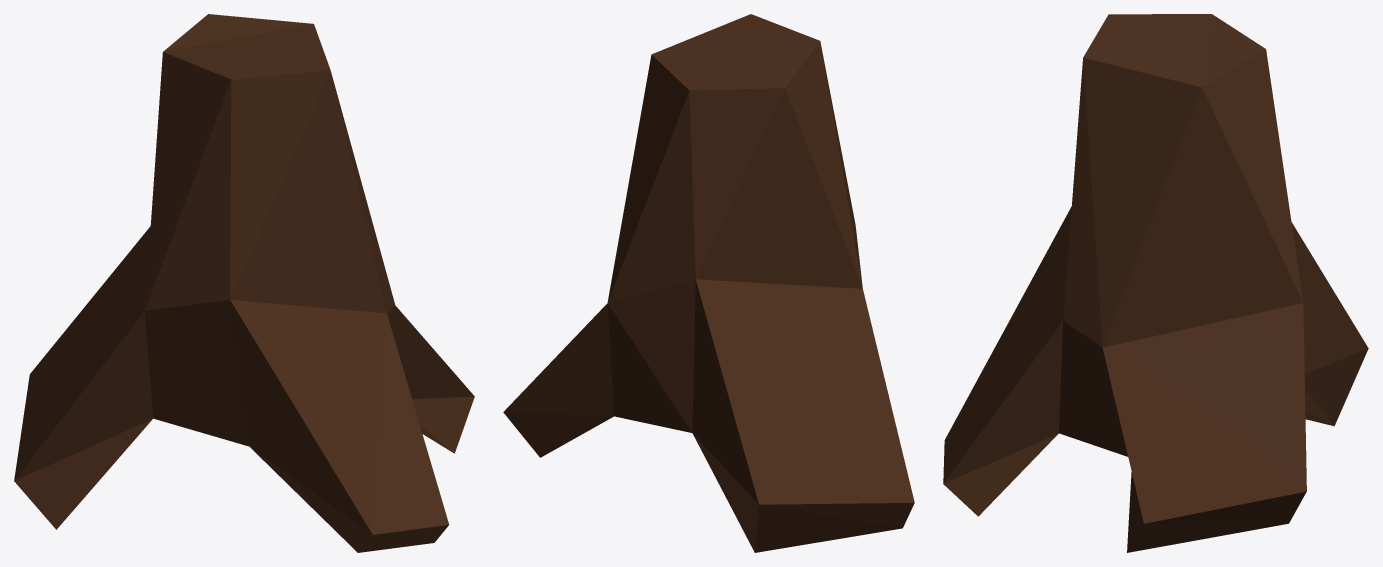
The model's file is Tree_Stump_02.fbx.
3 views of the same model, side by side, from view 1: azimuth 30°, elevation 25°; view 2: azimuth 150°, elevation 25°; view 3: azimuth 270°, elevation 25° (orthographic). The views are drawn at different scales.
Visible parts, largest first — view 1: Cylinder; view 2: Cylinder; view 3: Cylinder.
Part boxes in pixels (x1=…): Cylinder: x1=14, y1=14, x2=474, y2=552; Cylinder: x1=503, y1=14, x2=914, y2=552; Cylinder: x1=943, y1=14, x2=1368, y2=552.
Size of the model in its own units: 91.61 by 93.9 by 82.24.
